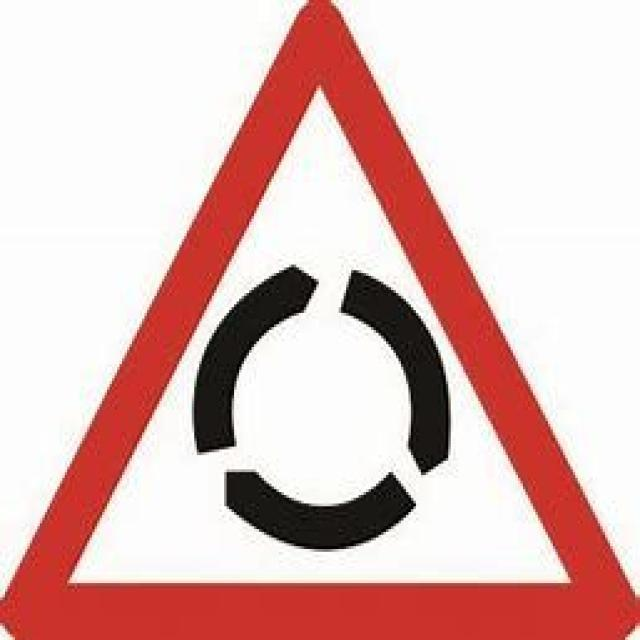roundabout: (18, 16, 625, 626)
